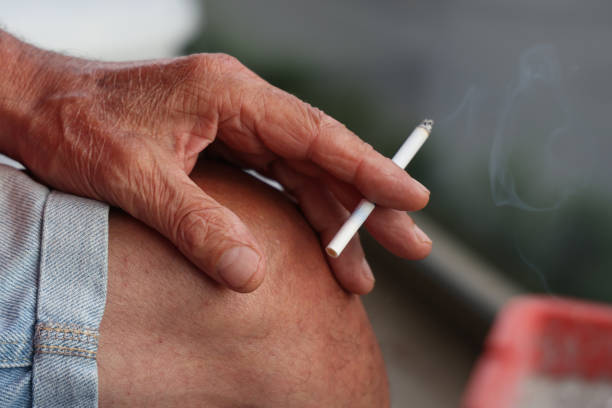cigarette: (325, 116, 436, 260)
